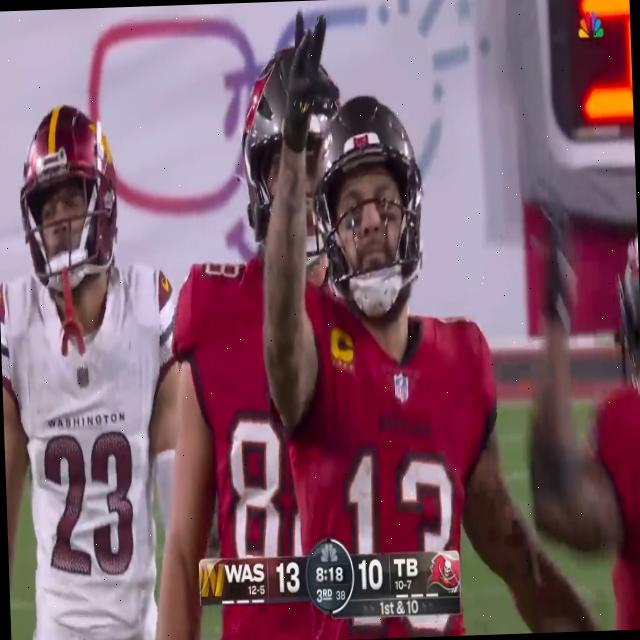Player: (276, 74, 524, 555), (0, 92, 180, 640), (165, 53, 342, 546)
